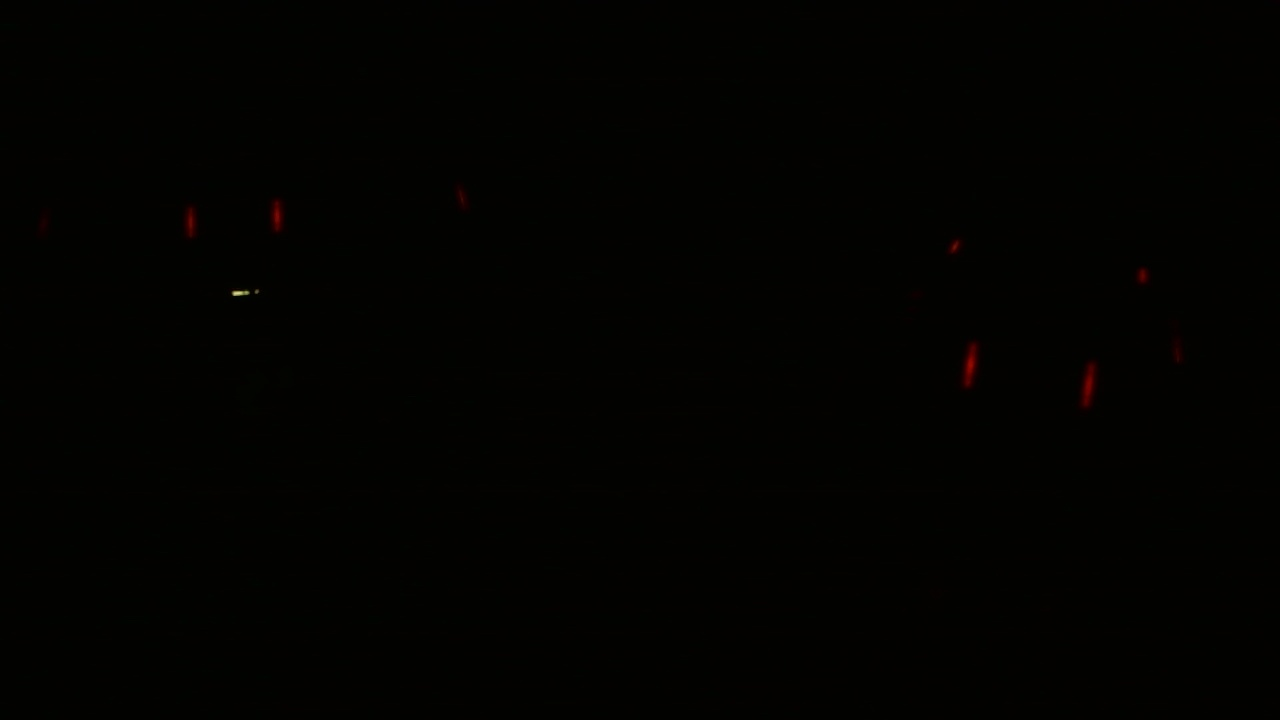pair1: (962, 336, 1100, 412), (176, 197, 294, 242)
